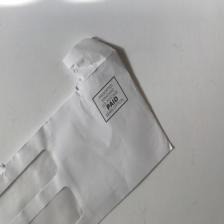paper: (5, 12, 196, 224)
